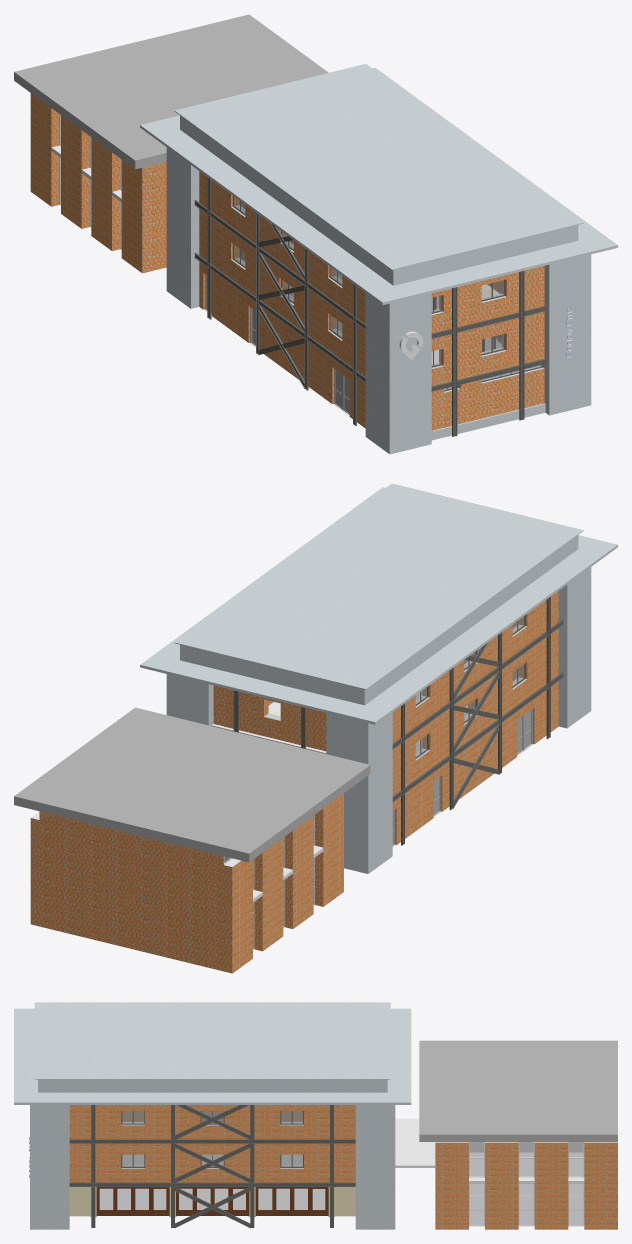
Rendered from edificio-municipal.glb.
3 renders of one model, top to bottom at view 1: azimuth 30°, elevation 25°; view 2: azimuth 150°, elevation 25°; view 3: azimuth 270°, elevation 25°, orthographic. The views are drawn at different scales.
Parts seen in each view (by area): view 1: Edif Municipal1; view 2: Edif Municipal1; view 3: Edif Municipal1.
Part boxes in pixels (x1,y1,x2,y2): Edif Municipal1: [14, 14, 617, 454]; Edif Municipal1: [14, 483, 617, 973]; Edif Municipal1: [14, 1002, 617, 1229].
Bounding box in the file's own units: 14 × 10.32 × 38.
8 materials, 4 textured.
